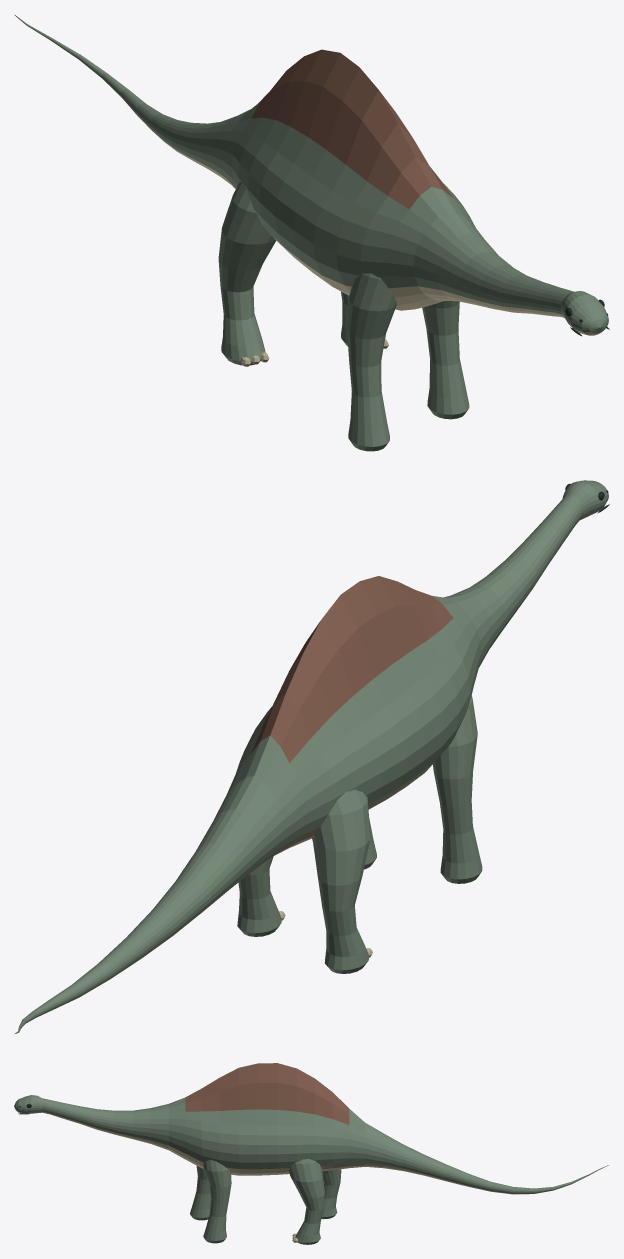
3 views of the same model, one above another, from view 1: azimuth 30°, elevation 25°; view 2: azimuth 150°, elevation 25°; view 3: azimuth 270°, elevation 25° (orthographic). The views are drawn at different scales.
Visible parts, largest first — view 1: Continuous-head-neck-trunk-highback-tail, Fore-left, Hind-left, Fore-right; view 2: Continuous-head-neck-trunk-highback-tail, Hind-left, Fore-left, Hind-right; view 3: Continuous-head-neck-trunk-highback-tail, Hind-right, Fore-right, Fore-left, Hind-left.
Part boxes in pixels (<box>): Continuous-head-neck-trunk-highback-tail: <box>14,14,608,335</box>; Fore-left: <box>347,273,396,451</box>; Hind-left: <box>218,182,276,365</box>; Fore-right: <box>422,301,469,419</box>; Continuous-head-neck-trunk-highback-tail: <box>14,480,608,1034</box>; Hind-left: <box>312,789,370,973</box>; Fore-left: <box>433,696,482,883</box>; Hind-right: <box>237,856,281,936</box>; Continuous-head-neck-trunk-highback-tail: <box>14,1063,609,1194</box>; Hind-right: <box>289,1159,324,1244</box>; Fore-right: <box>203,1160,231,1243</box>; Fore-left: <box>190,1166,211,1220</box>; Hind-left: <box>321,1169,341,1219</box>.
Bounding box in the file's own units: 2.76 × 6.12 × 20.
